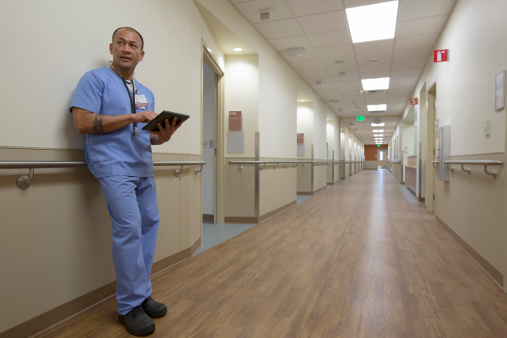em pe: (74, 28, 171, 320)
